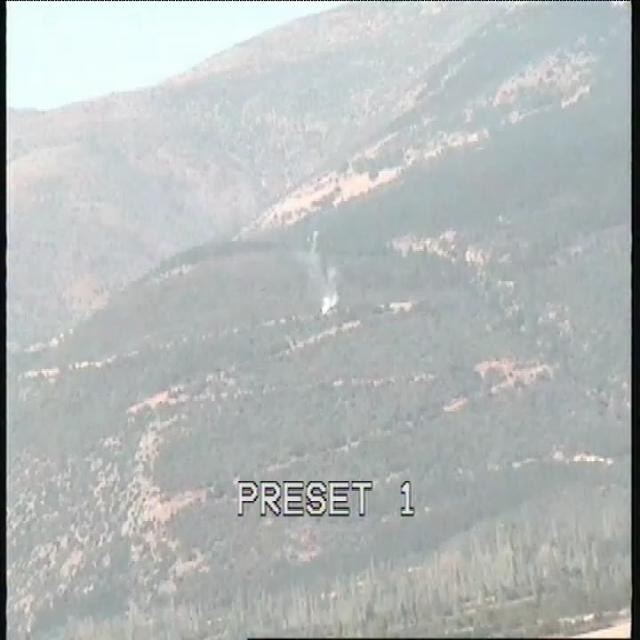smoke: (314, 264, 344, 315)
